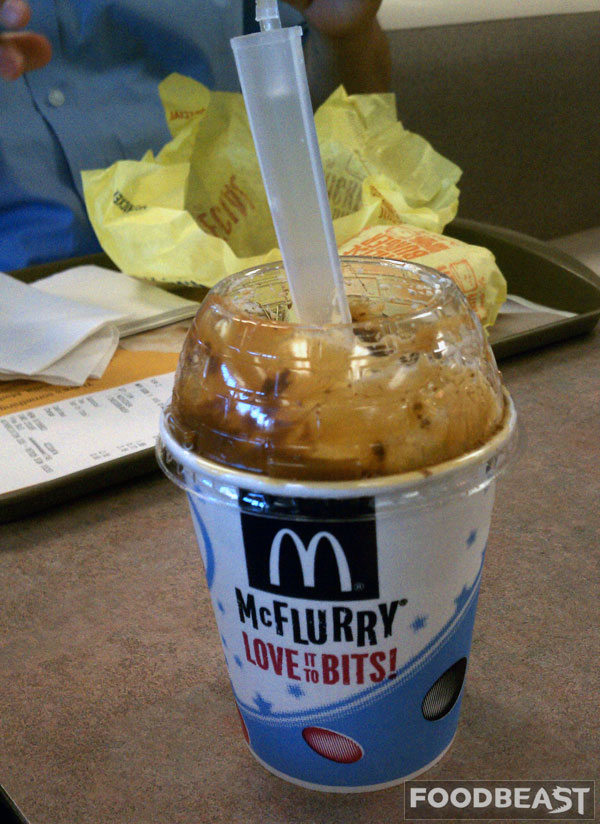mcdonalds: (258, 524, 361, 595)
